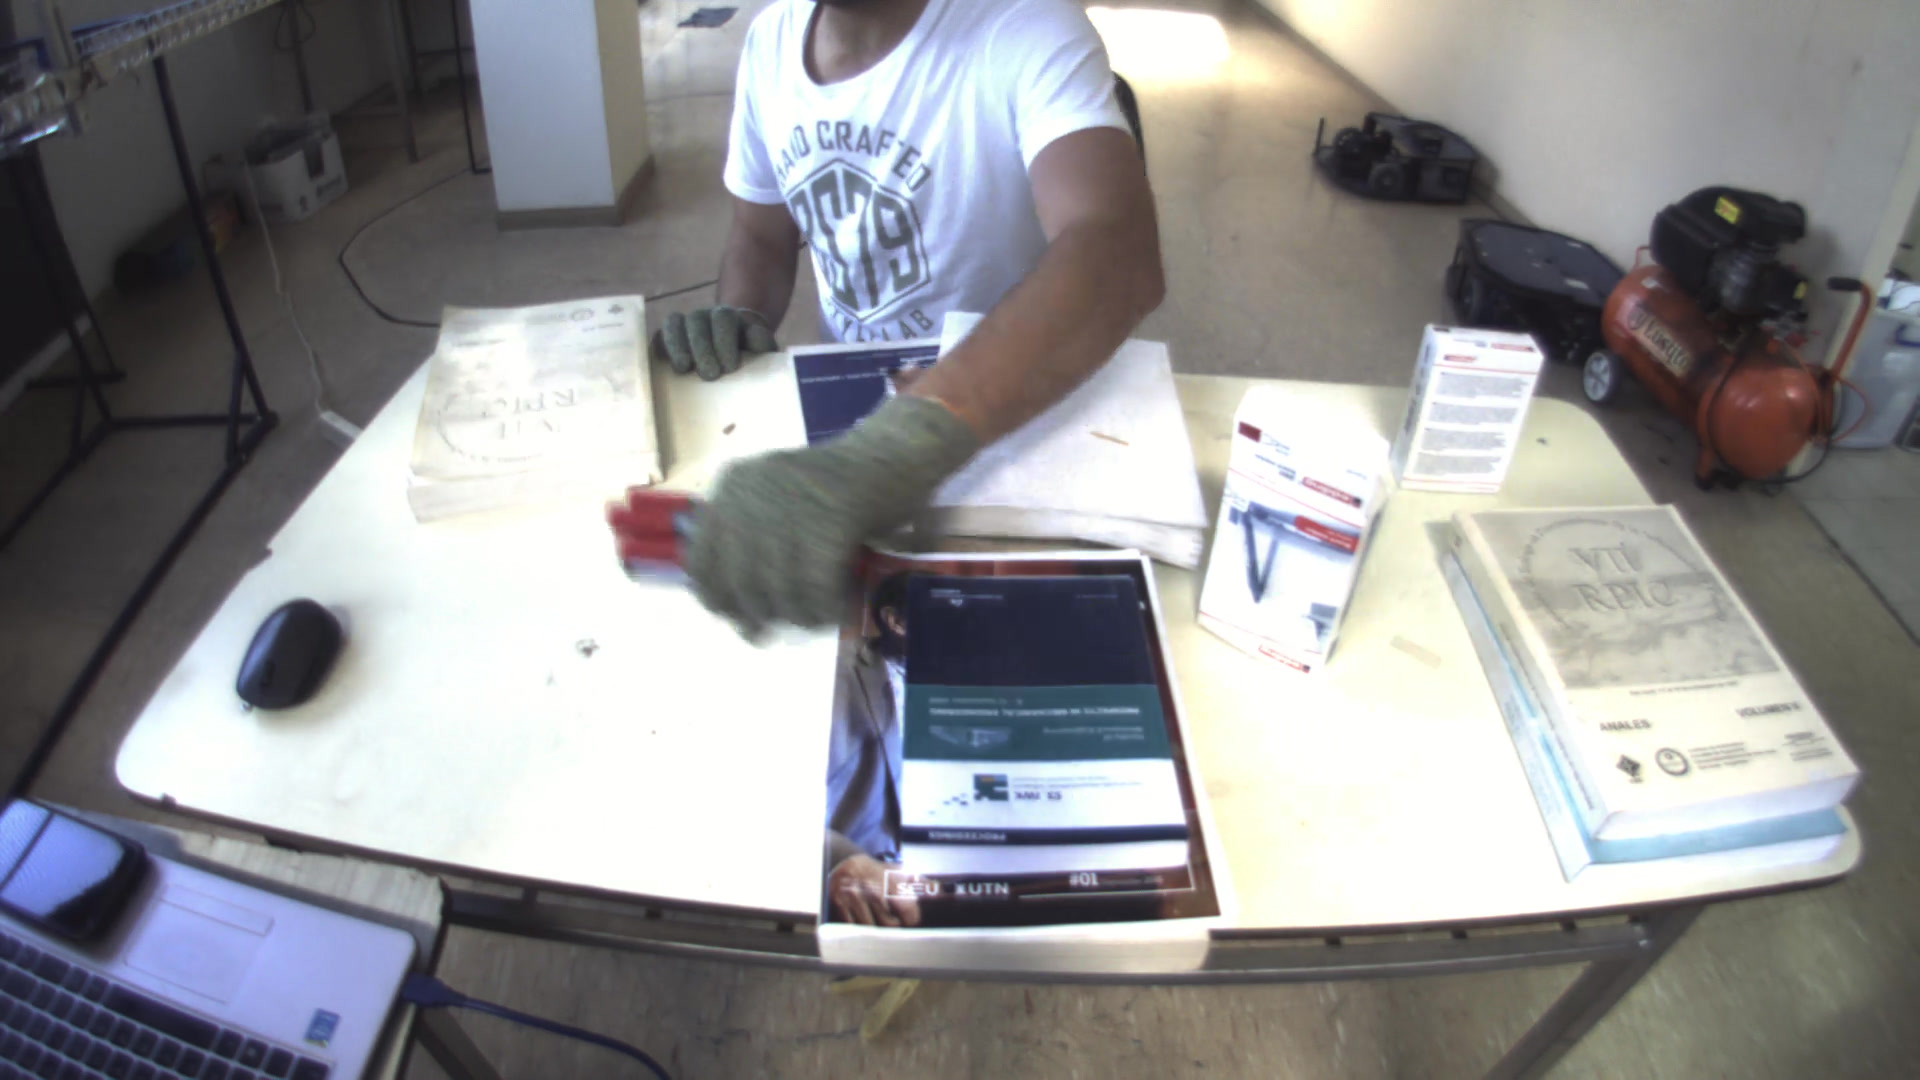hand: (676, 392, 978, 622), (642, 309, 781, 375)
